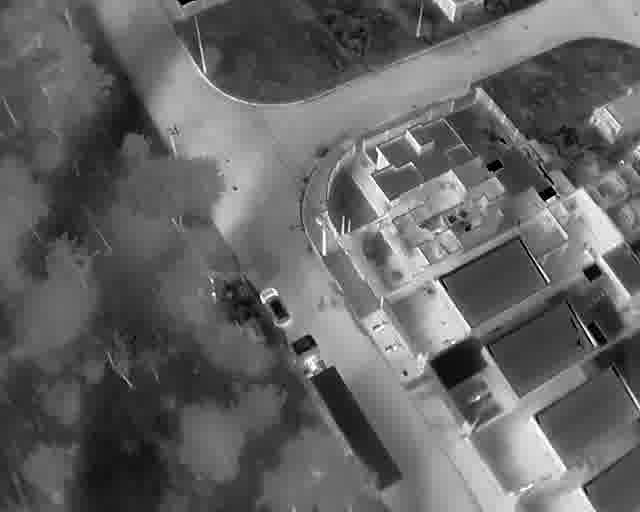car: (242, 183, 273, 218), (523, 380, 544, 405)
truck: (270, 216, 385, 361)
